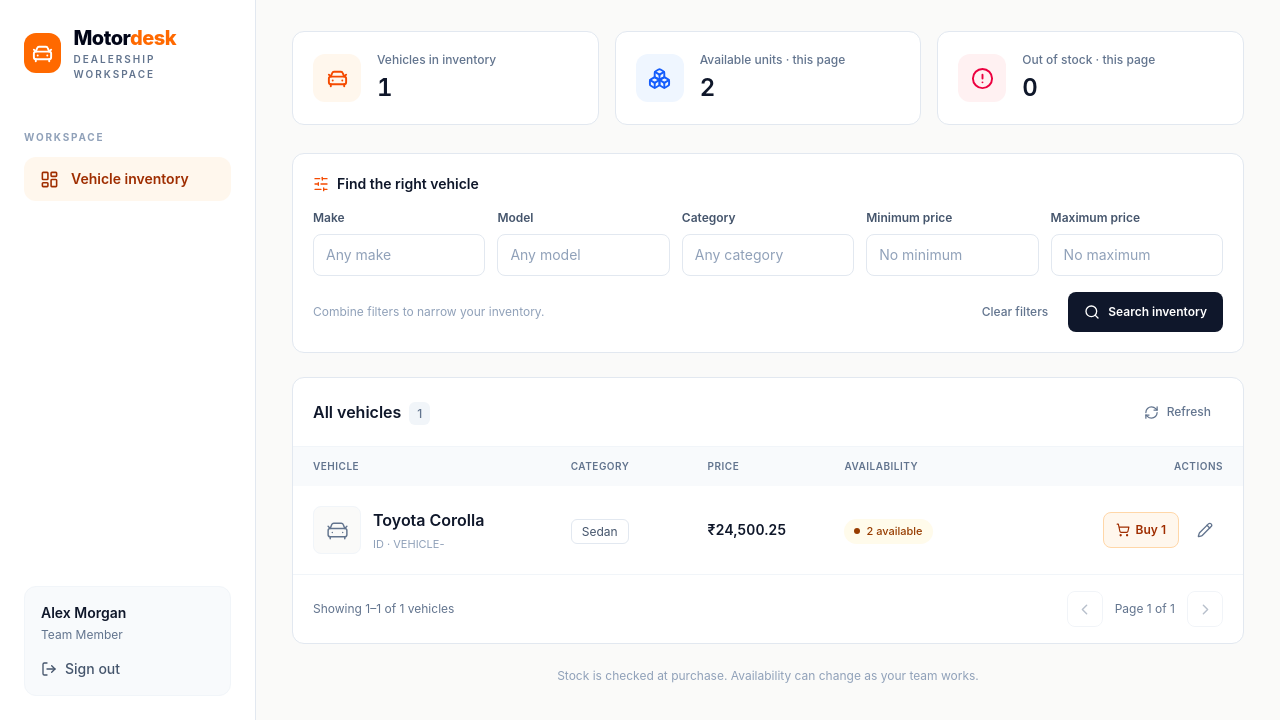
Test: updates details without sending stock
This screenshot has width=1280, height=720.
(page scrolled)
Expected: the heading "Toyota Corolla" is shown, 373,508 -> 484,532
Click the button named "Edit Toyota Corolla" at (1205, 530), box 1187,512 -> 1223,548
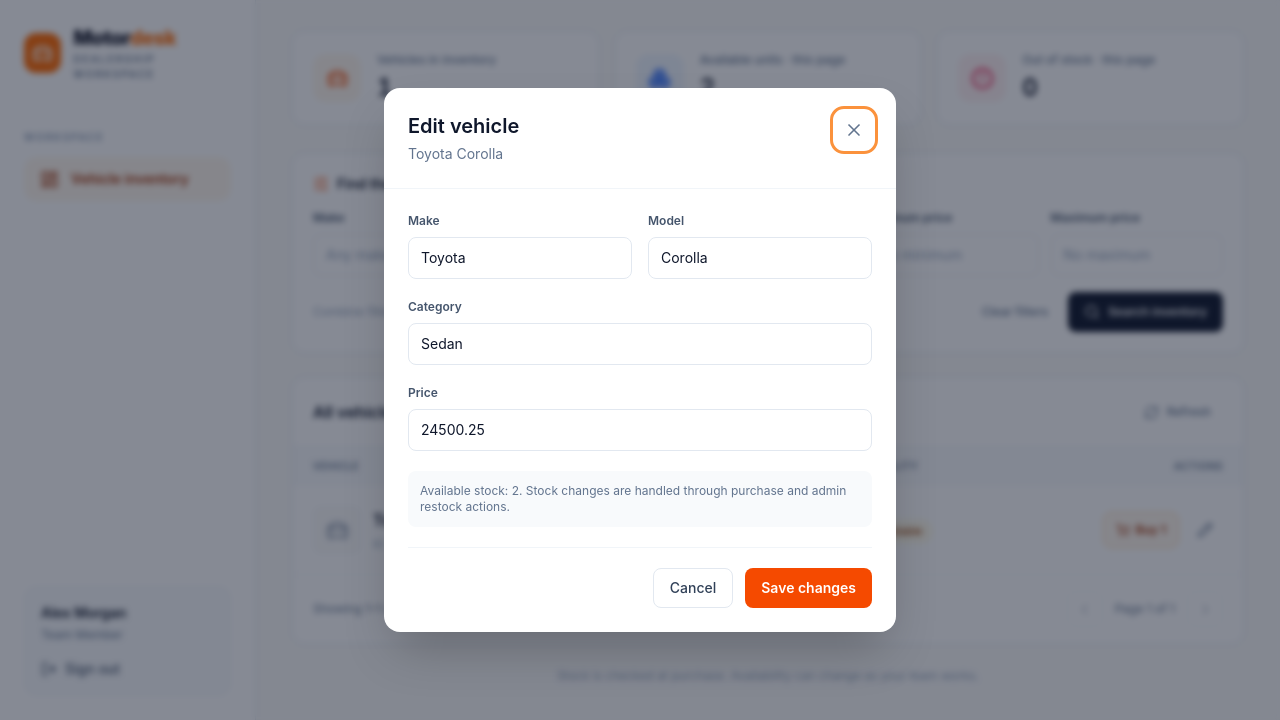
Click the button "Save changes" at (809, 588), box 745,568 -> 872,608
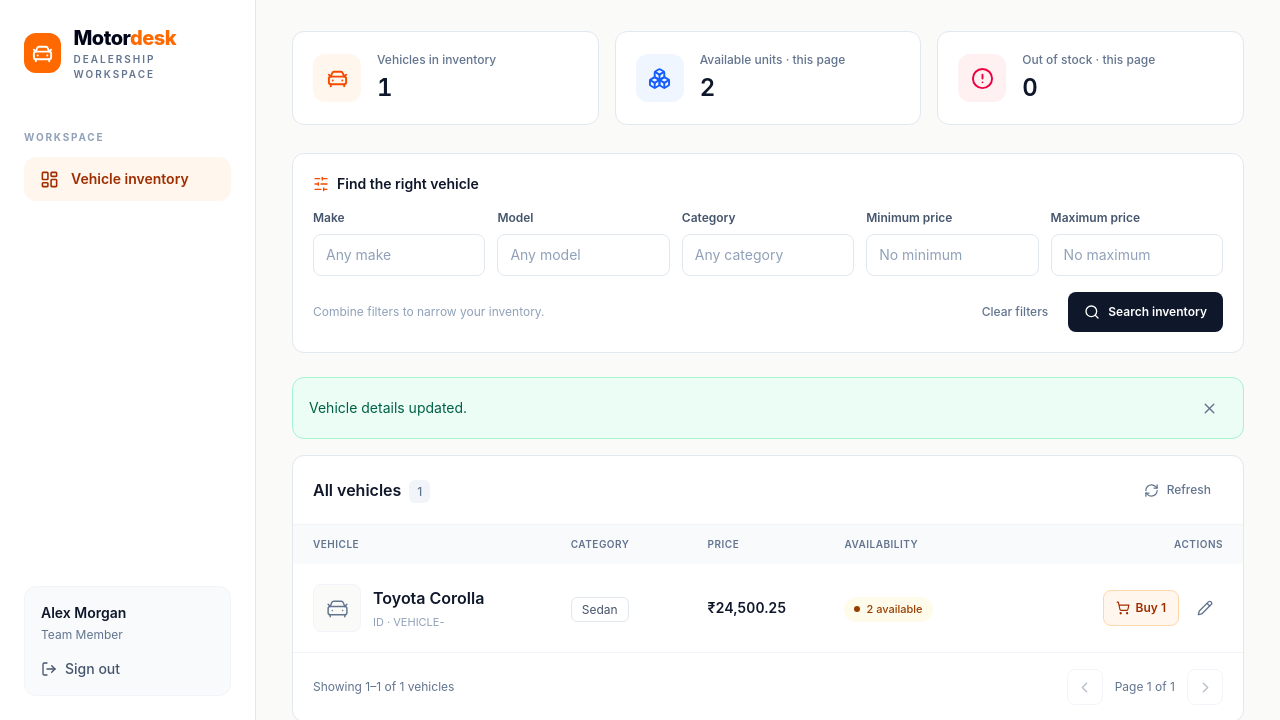
Now the dialog is gone
